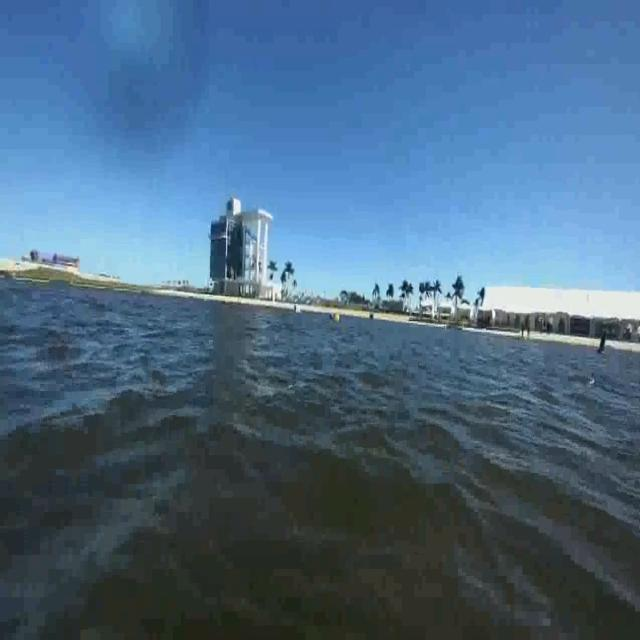yellow-buoy: (336, 312, 342, 323)
